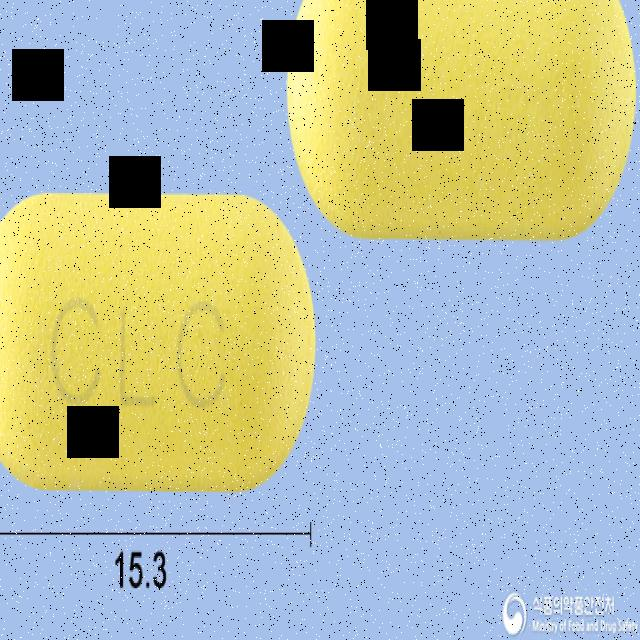Claric: (0, 182, 320, 499)
